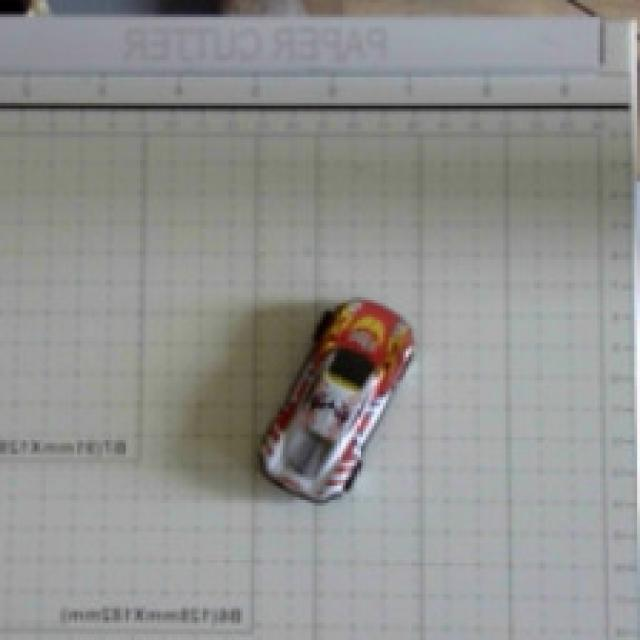Red Car: (228, 272, 468, 516)
